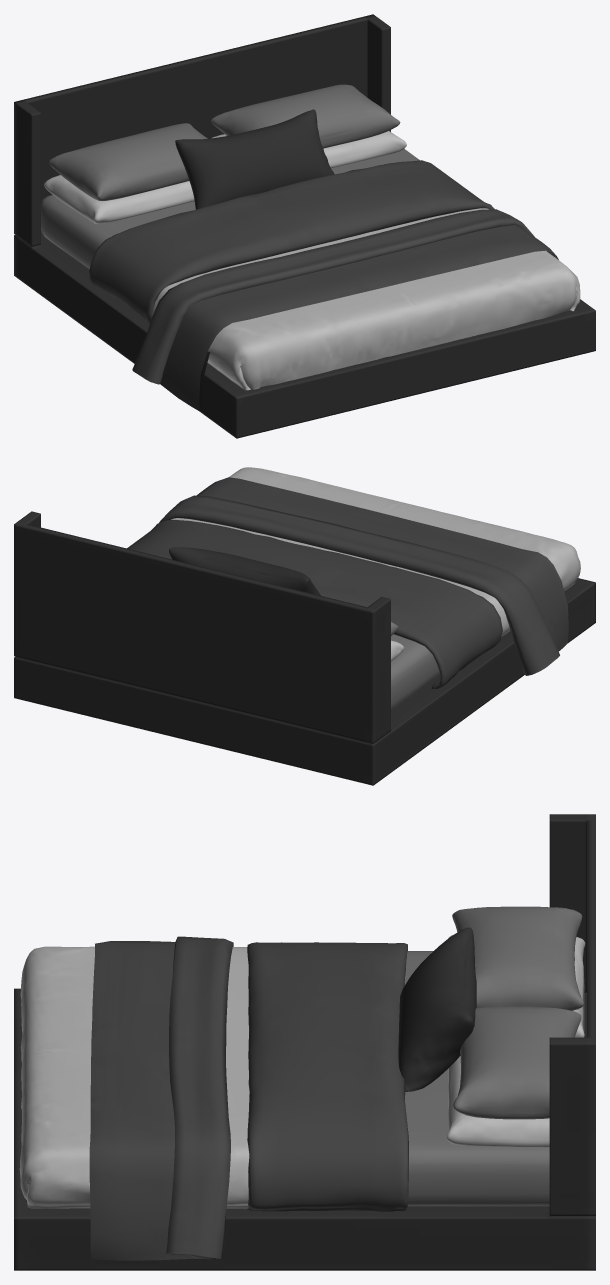
The model's file is dark_bed.glb.
3 views of the same model, one above another, from view 1: azimuth 30°, elevation 25°; view 2: azimuth 150°, elevation 25°; view 3: azimuth 270°, elevation 25° (orthographic). The views are drawn at different scales.
Parts seen in each view (by area): view 1: Bed_LP_Default_0; view 2: Bed_LP_Default_0; view 3: Bed_LP_Default_0.
Boxes of the visible parts, x1=… form: Bed_LP_Default_0: x1=14, y1=14, x2=595, y2=438; Bed_LP_Default_0: x1=14, y1=467, x2=595, y2=785; Bed_LP_Default_0: x1=14, y1=814, x2=595, y2=1270.
Bounding box in the file's own units: 2137 × 858 × 1993.
1 material, 1 textured.
